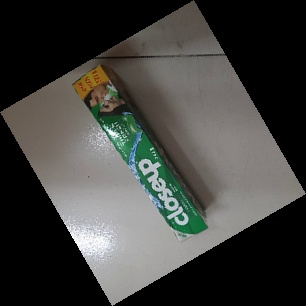CloseUp Xanh: (69, 64, 209, 247)
